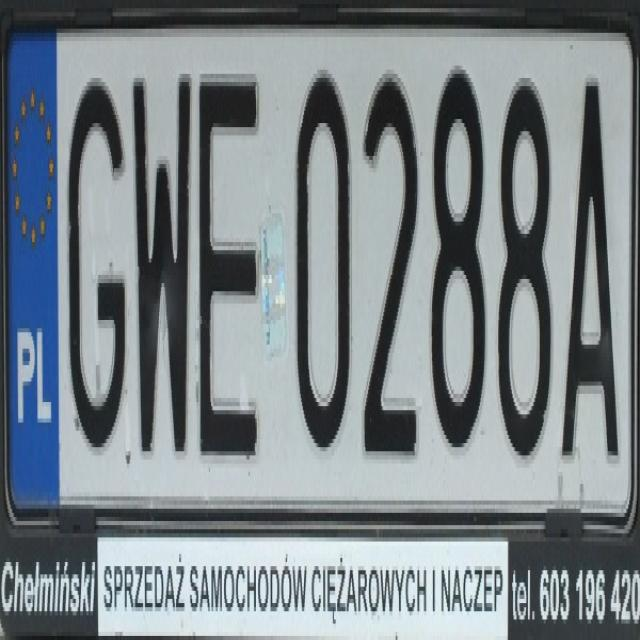pl_license_plate: (7, 29, 630, 508)
